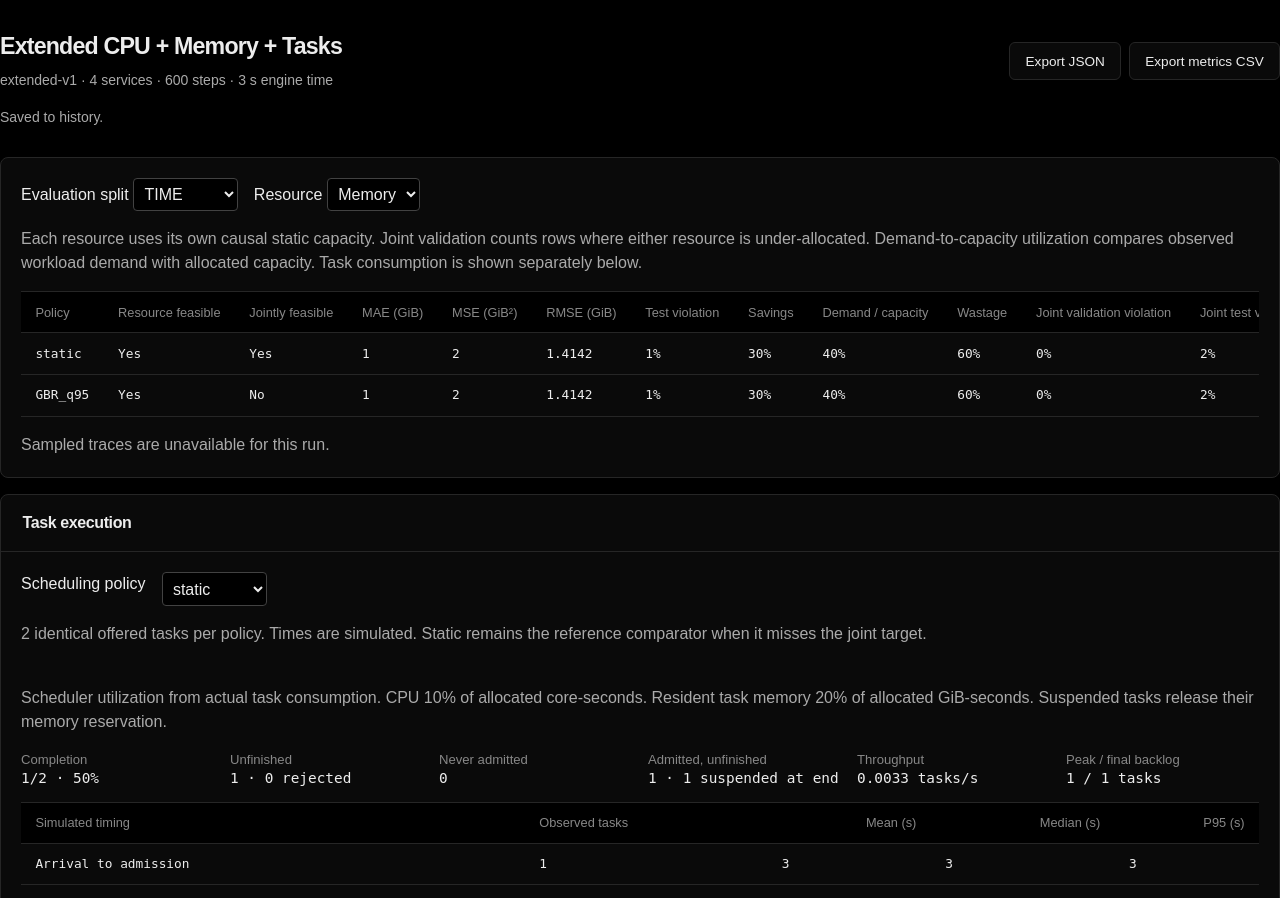
Test: extended experiments › renders saved task metrics, changes resource units, and explains unavailable task results
Expected: the text "Saved to history." is shown, [0,109,103,125]
Expected: the text "Resident task memory 20%" is shown, [21,686,1259,734]
Select "CPU" in the dropdown labelled "Resource" at x=373, y=194, box [327,178,420,211]
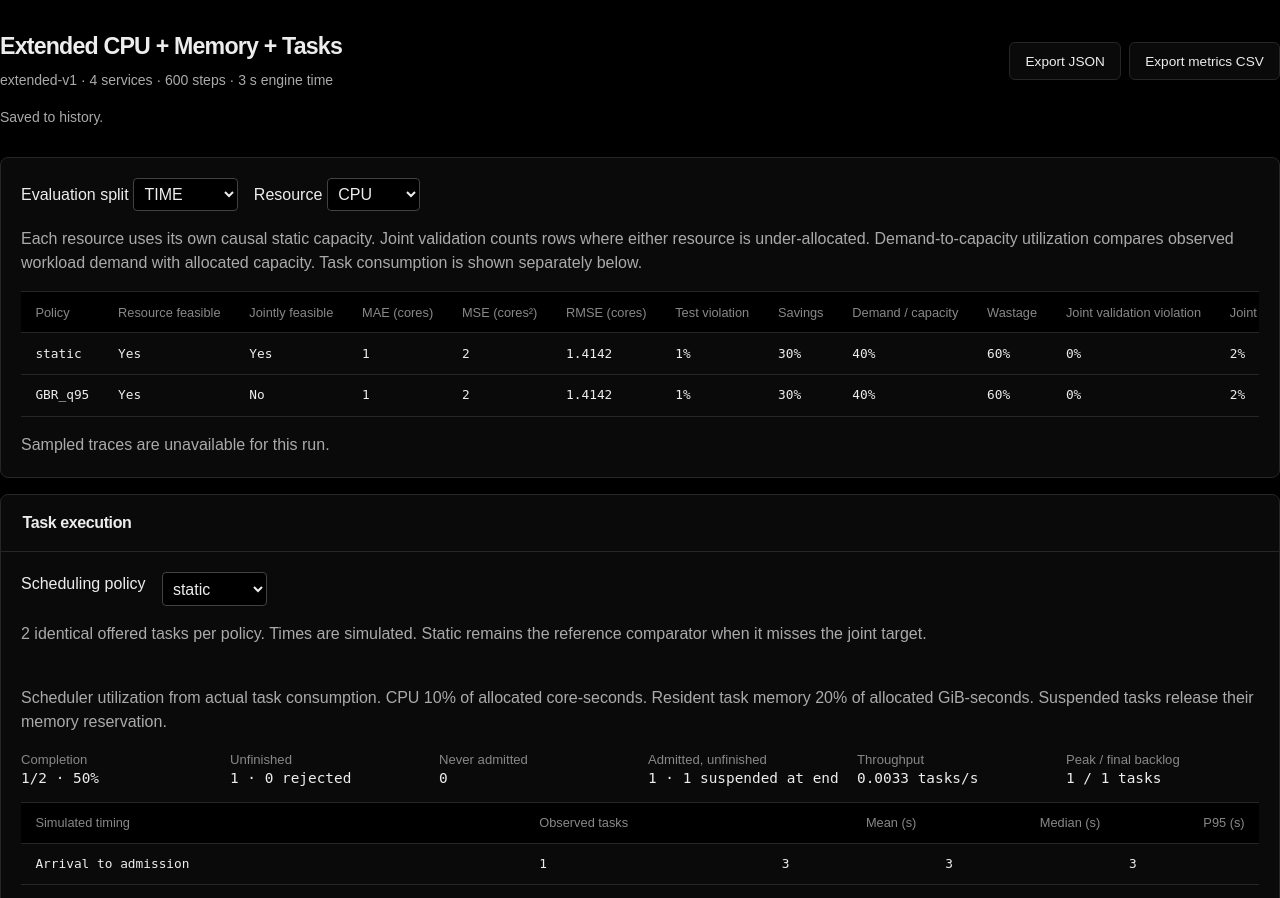
Expected: the column heading "MSE (cores²)" is shown, [448,292,552,333]
Select "GBR_q95" in the dropdown labelled "Scheduling policy" at x=214, y=589, box [162,572,267,606]
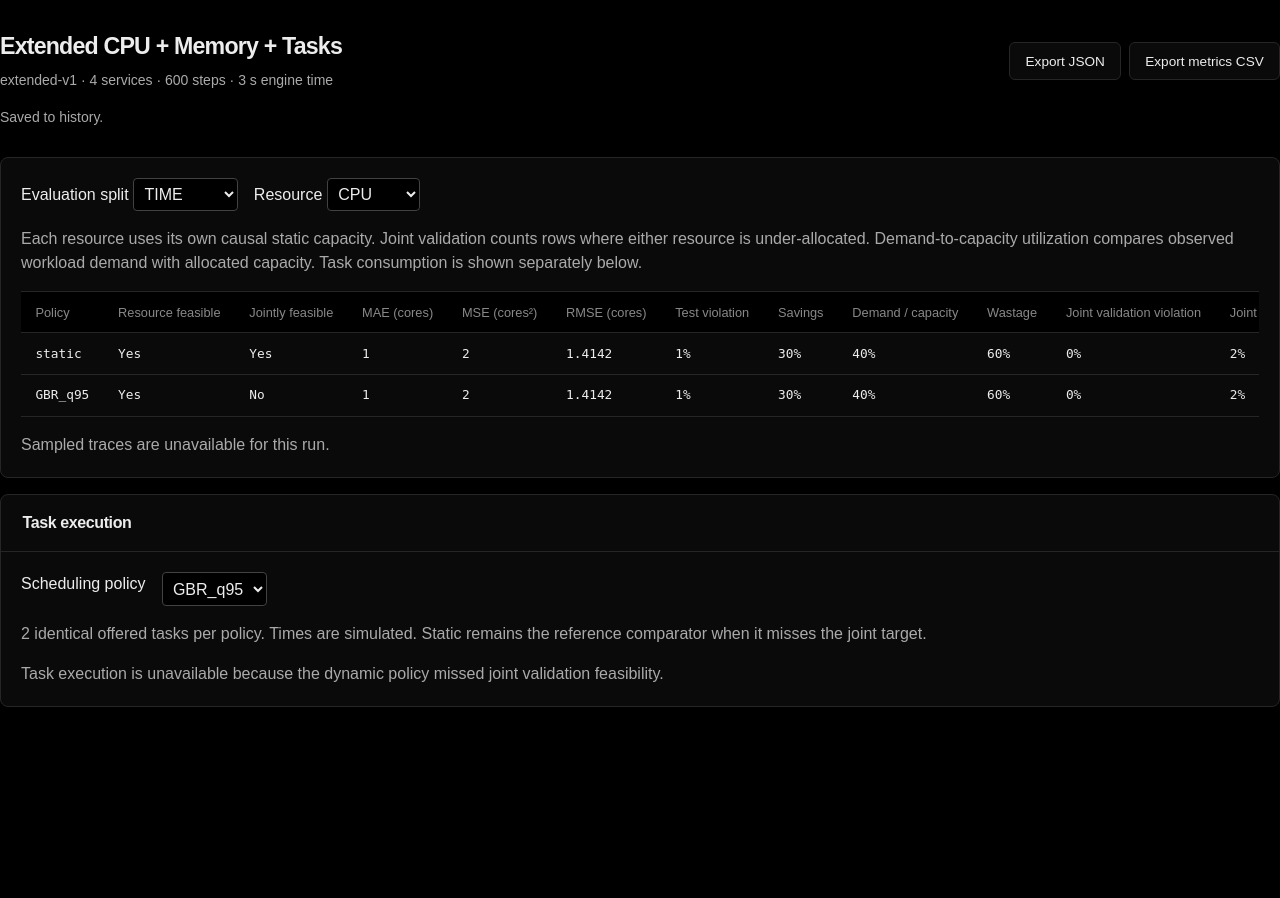
Expected: the text "missed joint validation" is shown, [21,665,664,682]
